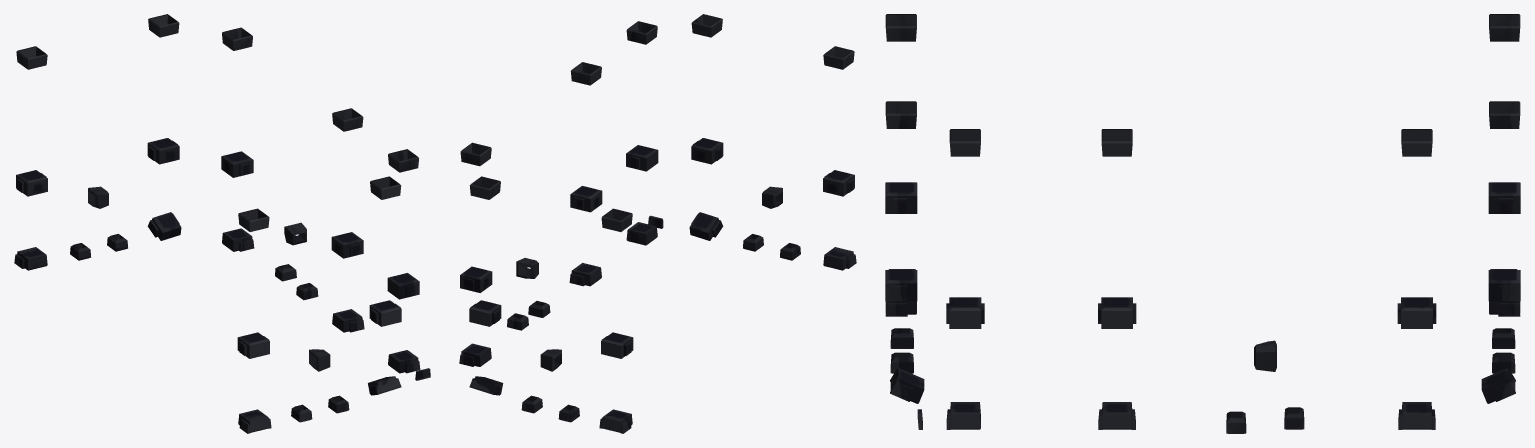
The model's file is Wall_03.FBX.
3 renders of one model, left to right at view 1: azimuth 30°, elevation 25°; view 2: azimuth 150°, elevation 25°; view 3: azimuth 270°, elevation 25°, orthographic. The views are drawn at different scales.
Parts seen in each view (by area): view 1: Wall_03; view 2: Wall_03; view 3: Wall_03.
Part boxes in pixels (<box>): Wall_03: <box>14,14,430,433</box>; Wall_03: <box>459,14,856,433</box>; Wall_03: <box>885,14,1520,433</box>.
Bounding box in the file's own units: 12.75 × 13.35 × 26.14.
